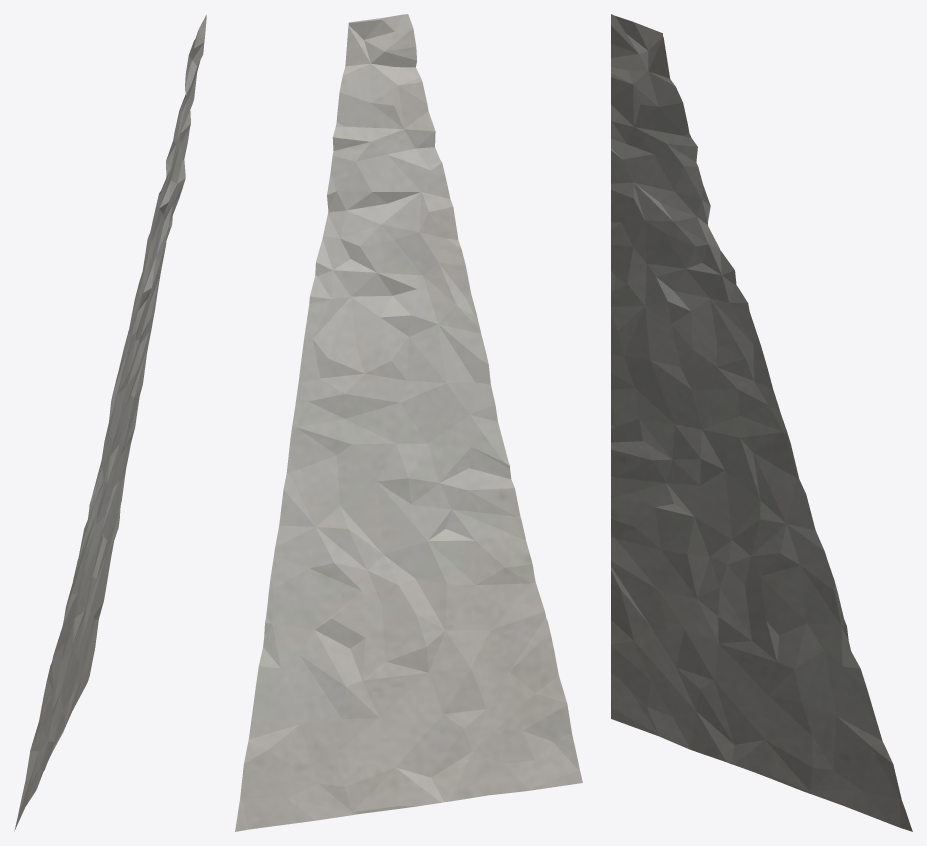
3 renders of one model, left to right at view 1: azimuth 30°, elevation 25°; view 2: azimuth 150°, elevation 25°; view 3: azimuth 270°, elevation 25°, orthographic. The views are drawn at different scales.
Bounding box in the file's own units: 0.2542 × 0.8374 × 0.2868.
1 material, 1 textured.
